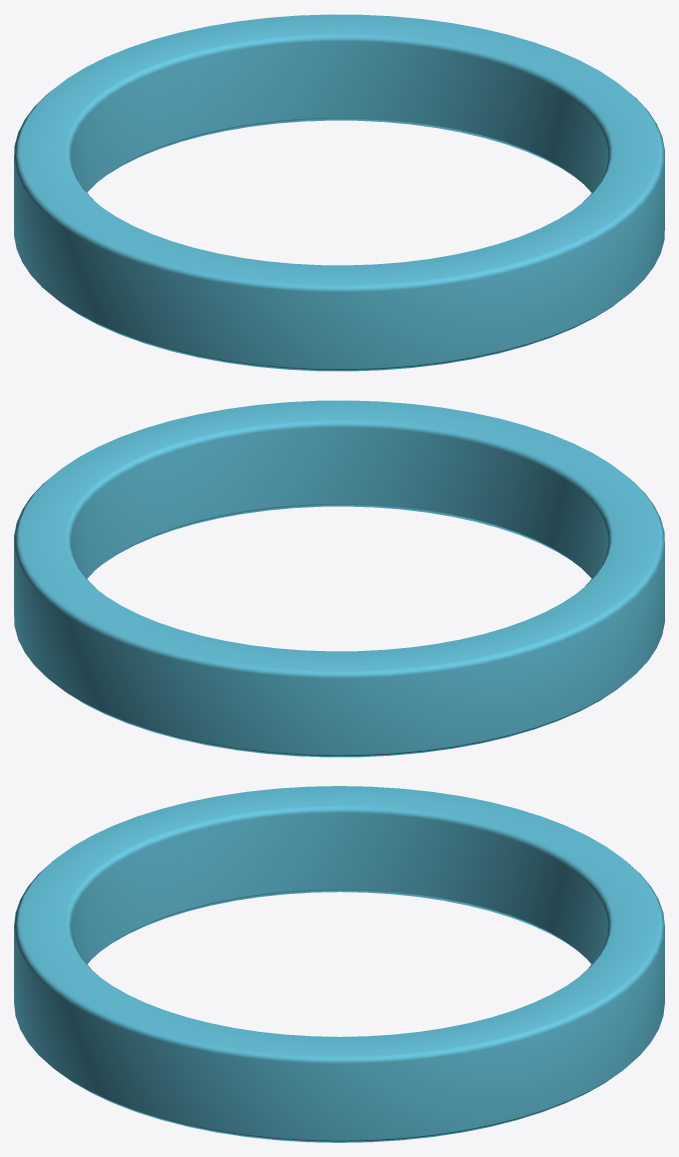
3 views of the same model, one above another, from view 1: azimuth 30°, elevation 25°; view 2: azimuth 150°, elevation 25°; view 3: azimuth 270°, elevation 25° (orthographic).
Parts seen in each view (by area): view 1: seal_body; view 2: seal_body; view 3: seal_body.
Boxes of the visible parts, bbox=[...] form: seal_body: bbox=[14, 14, 664, 371]; seal_body: bbox=[14, 400, 664, 757]; seal_body: bbox=[14, 786, 664, 1142].
Size of the model in its own units: 0.054 by 0.00793 by 0.054.
